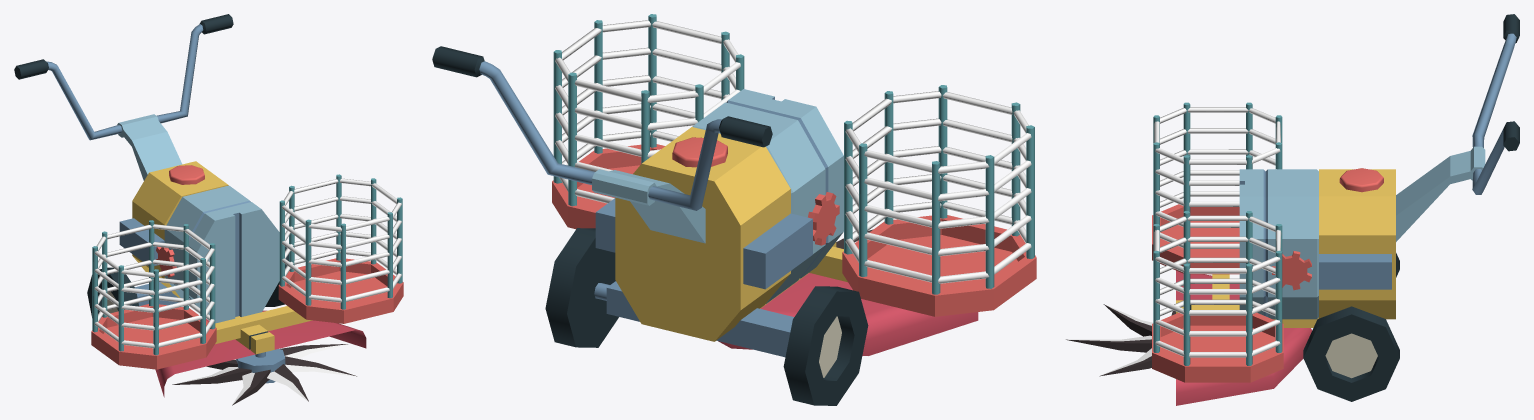
Rendered from cutting_machine.fbx.
The picture shows the model from 3 angles, left to right: view 1: azimuth 30°, elevation 25°; view 2: azimuth 150°, elevation 25°; view 3: azimuth 270°, elevation 25°; orthographic projection. The views are drawn at different scales.
Visible parts, largest first — view 1: cutting_machine; view 2: cutting_machine; view 3: cutting_machine.
Part boxes in pixels (x1,y1,x2,y2): cutting_machine: (14, 14, 403, 405); cutting_machine: (432, 14, 1036, 405); cutting_machine: (1066, 14, 1519, 405).
Bounding box in the file's own units: 3.19 × 2.5 × 3.71.
